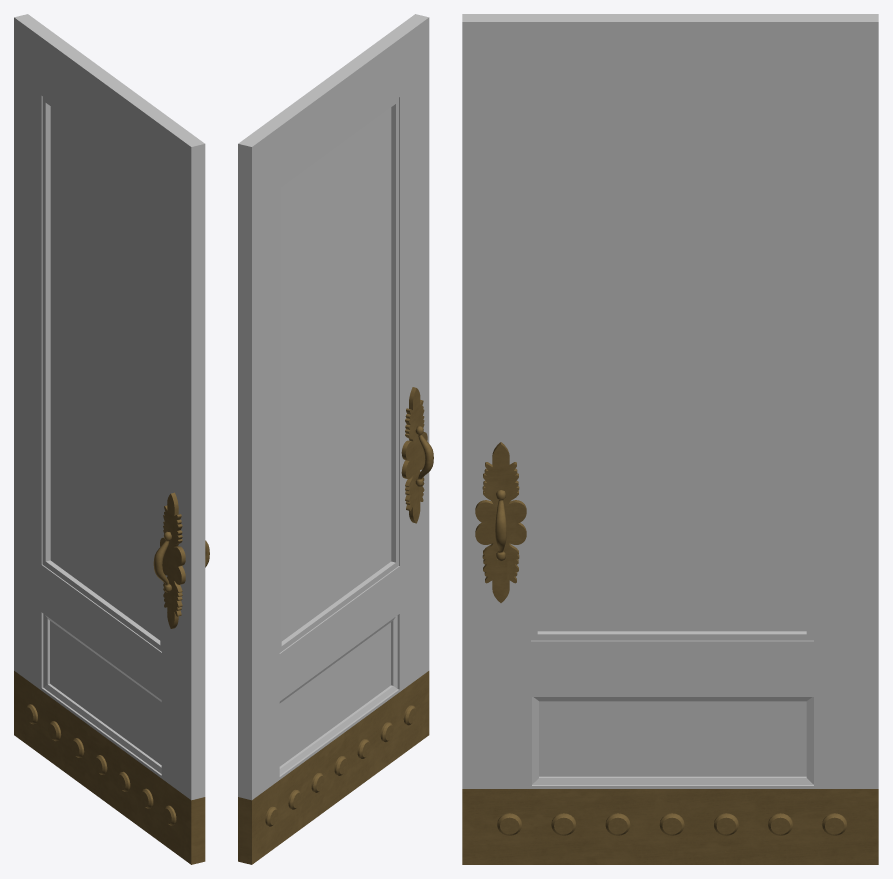
The model's file is SM_WD48_DOOR_2.fbx.
3 views of the same model, side by side, from view 1: azimuth 30°, elevation 25°; view 2: azimuth 150°, elevation 25°; view 3: azimuth 270°, elevation 25° (orthographic). The views are drawn at different scales.
Visible parts, largest first — view 1: SM_WD48_DOOR_2; view 2: SM_WD48_DOOR_2; view 3: SM_WD48_DOOR_2.
Boxes of the visible parts, x1,y1,x2,y2 form: SM_WD48_DOOR_2: [14, 14, 209, 864]; SM_WD48_DOOR_2: [238, 14, 433, 864]; SM_WD48_DOOR_2: [462, 14, 878, 864].
Size of the model in its own units: 19.97 by 114 by 254.
